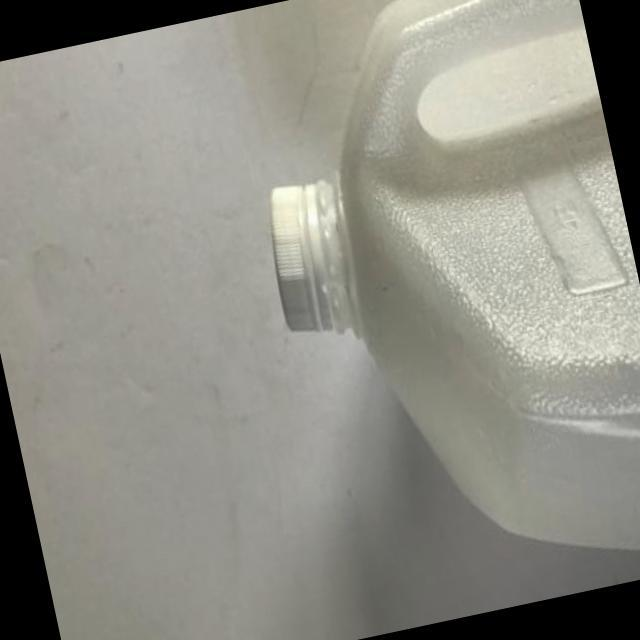HDPE Plastic: (266, 2, 640, 556)
